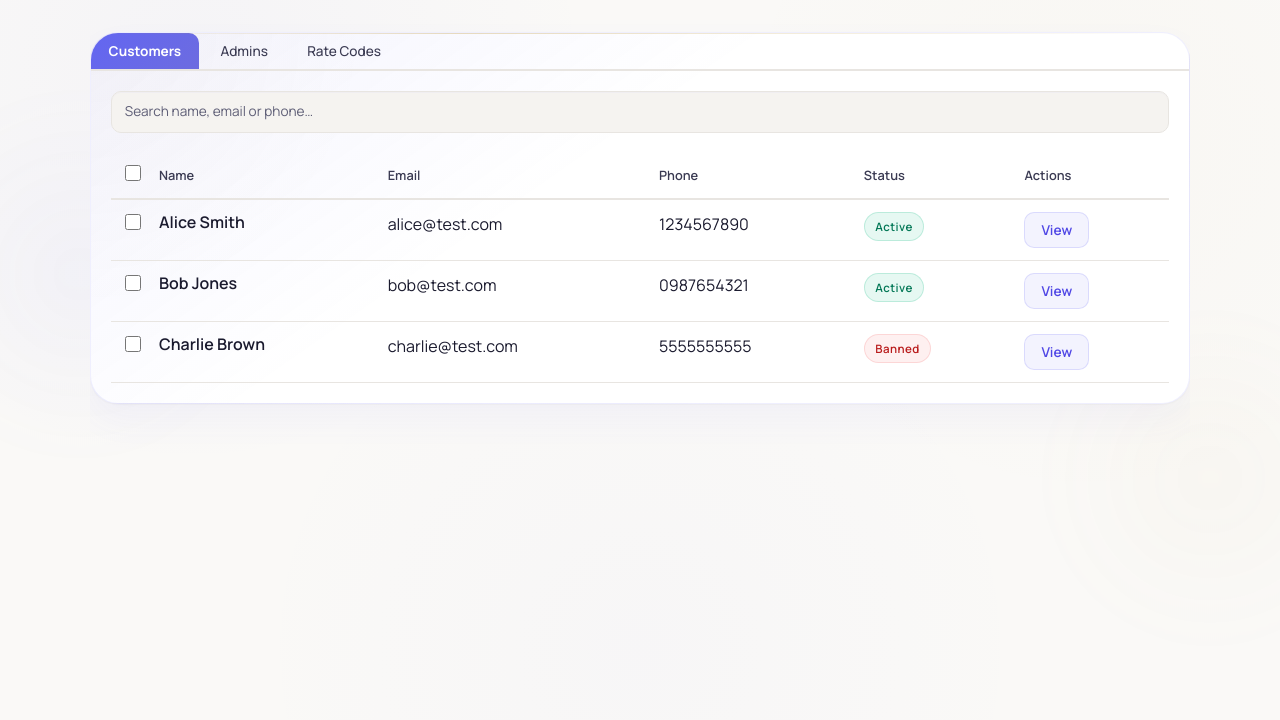
AdminUsersConfig Page › closes detail modal on X button click
expect the text "Alice Smith" is shown: met, box top-left (159, 211), bottom-right (245, 233)
What coordinates should you click on to do the following:
click the button "View" in the row of "Smith"
I would click on:
 (1057, 230)
Its box is top-left (1024, 212), bottom-right (1089, 248).
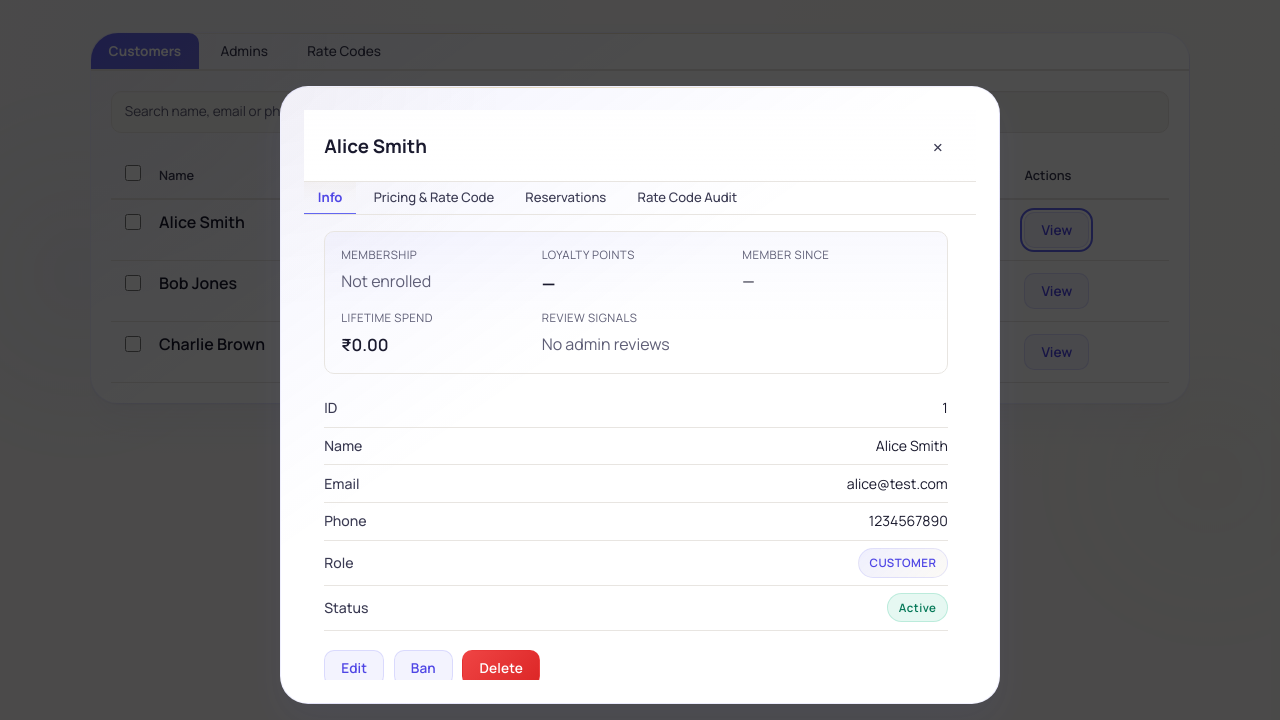
expect the element with class "auc-detail-modal" is shown: met, box top-left (280, 86), bottom-right (1000, 704)
What coordinates should you click on to do the following:
click the button with class "ab-modal-close"
I would click on:
 (938, 147)
Its box is top-left (920, 129), bottom-right (956, 165).
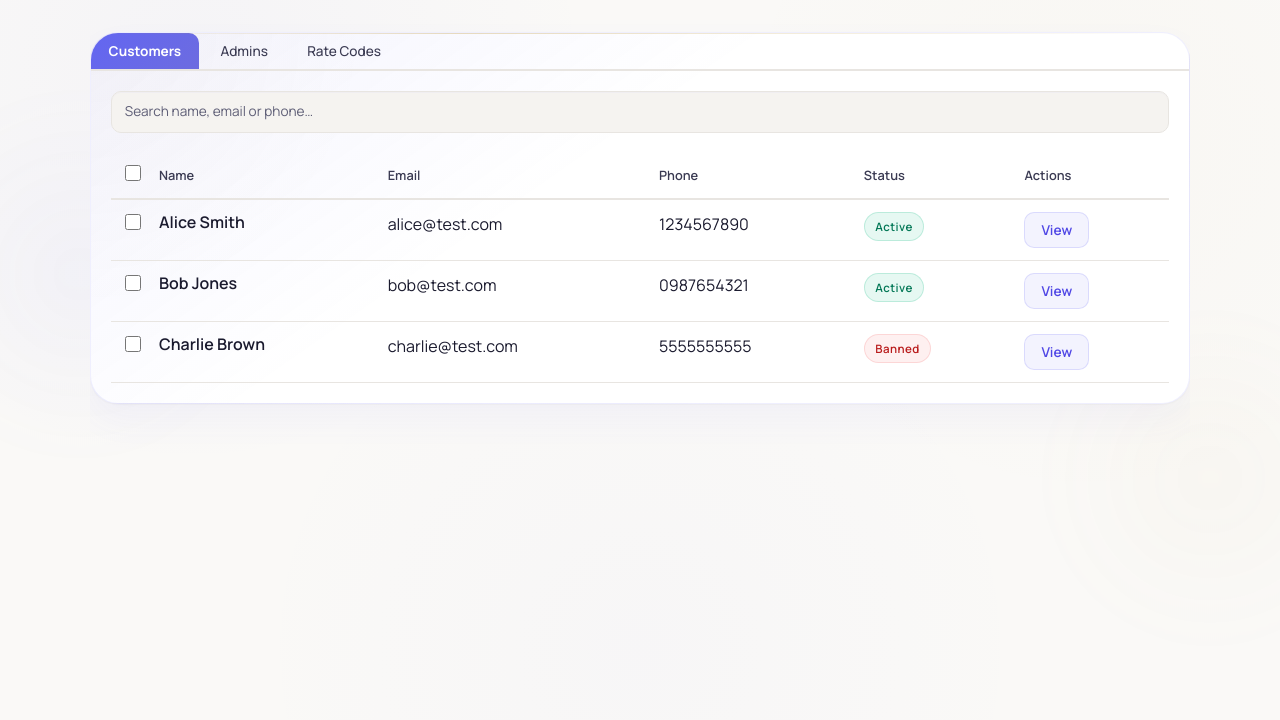
expect the element with class "auc-detail-modal" is gone: met
